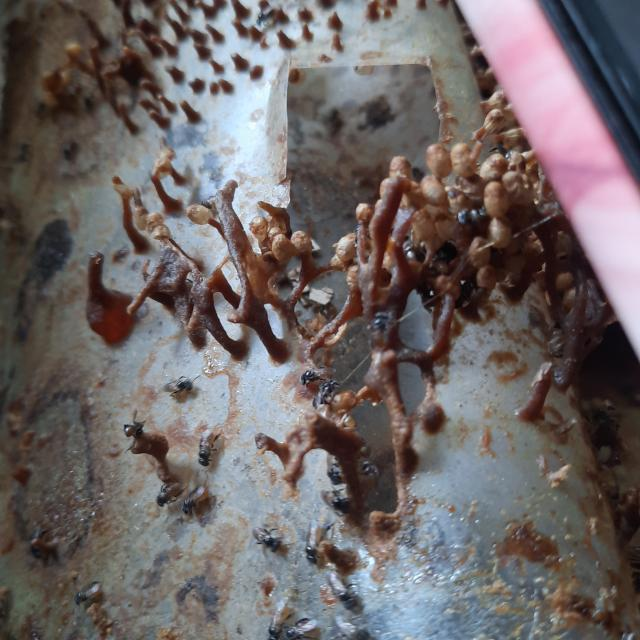honeybee: (314, 554, 354, 612), (193, 430, 232, 481), (160, 379, 198, 412), (175, 490, 212, 518), (313, 376, 340, 412), (268, 597, 290, 640), (155, 481, 182, 506), (259, 525, 284, 550), (79, 584, 104, 609), (300, 533, 326, 552), (296, 621, 320, 640), (300, 367, 320, 389)
